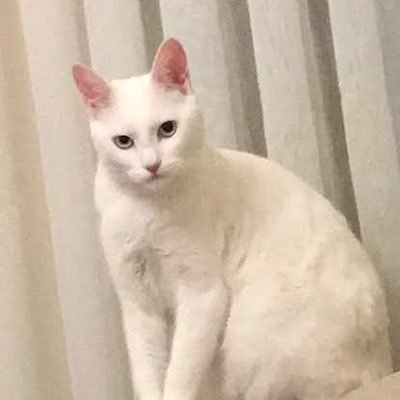cat: (73, 59, 280, 344)
